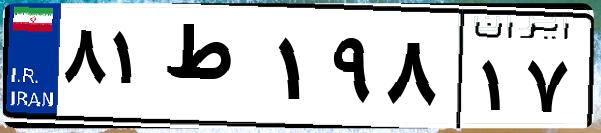1: (270, 28, 330, 110), (475, 38, 525, 113), (110, 28, 158, 98)
7: (525, 38, 570, 115)
8: (385, 28, 445, 110), (57, 26, 110, 100)
9: (330, 28, 385, 110)
ط: (158, 20, 270, 120)
